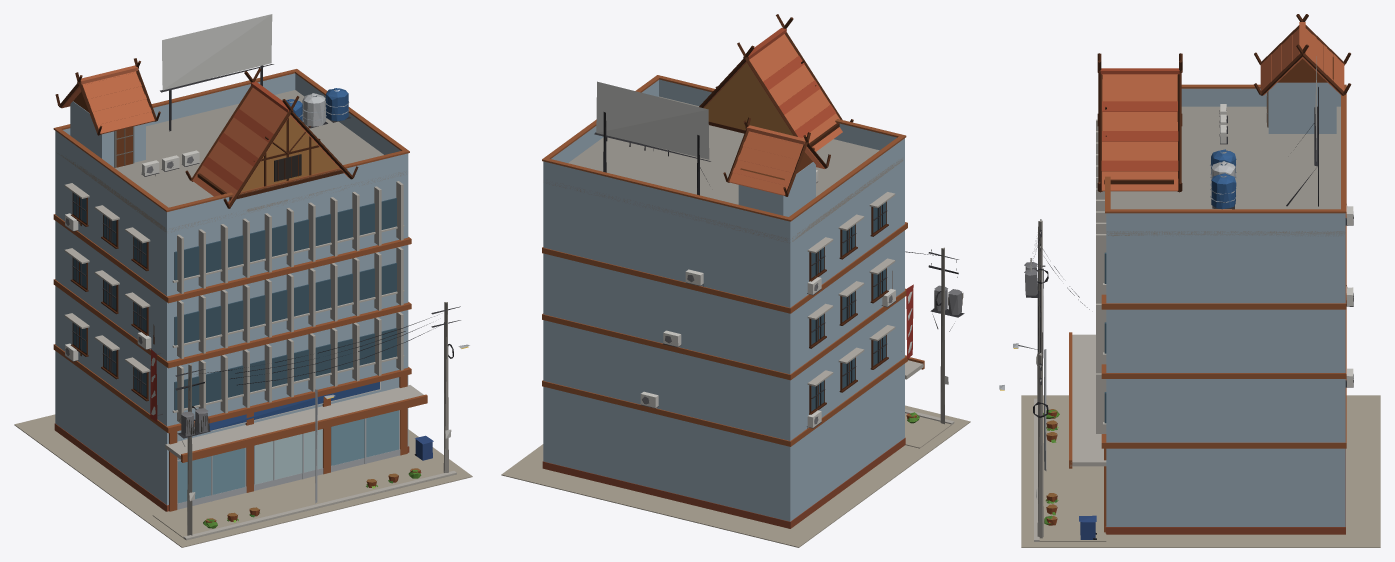
File: shop_4.glb
3 views of the same model, side by side, from view 1: azimuth 30°, elevation 25°; view 2: azimuth 150°, elevation 25°; view 3: azimuth 270°, elevation 25° (orthographic). The views are drawn at different scales.
Parts seen in each view (by area): view 1: body, windows; view 2: body, windows; view 3: body.
Boxes of the visible parts, x1,y1,x2,y2 form: body: [14, 14, 472, 547]; windows: [73, 154, 468, 410]; body: [501, 14, 970, 547]; windows: [811, 202, 886, 411]; body: [999, 14, 1380, 547].
Size of the model in its own units: 15.9 by 20.68 by 16.88.
